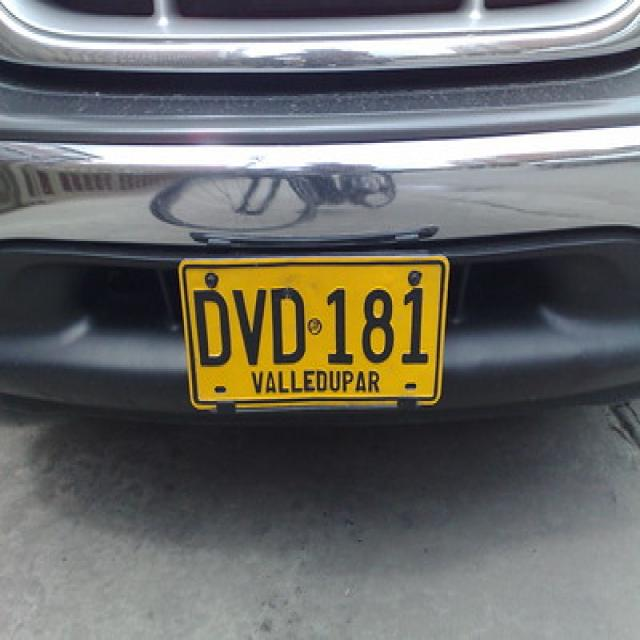placa_carro: (162, 234, 472, 438)
